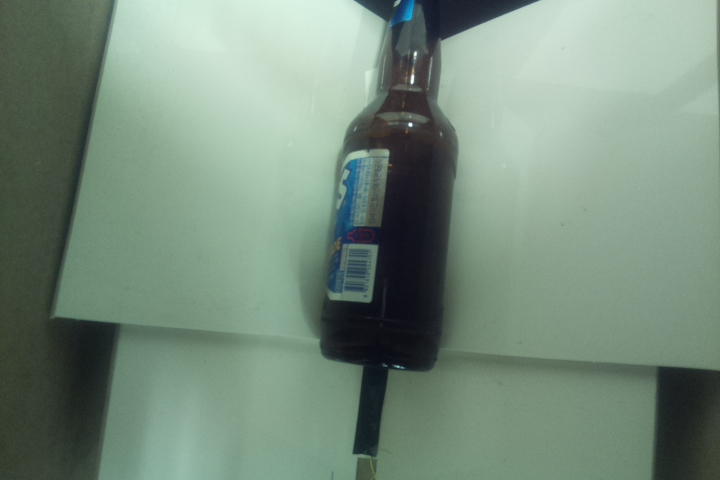makju: (312, 1, 465, 375)
